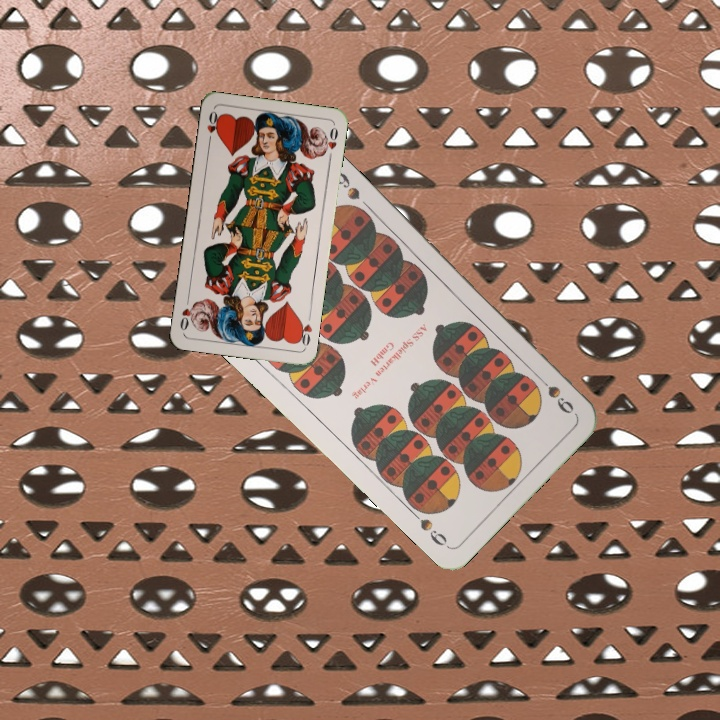HO: (294, 310, 315, 350), (203, 107, 222, 147)
S9: (531, 370, 577, 417)
